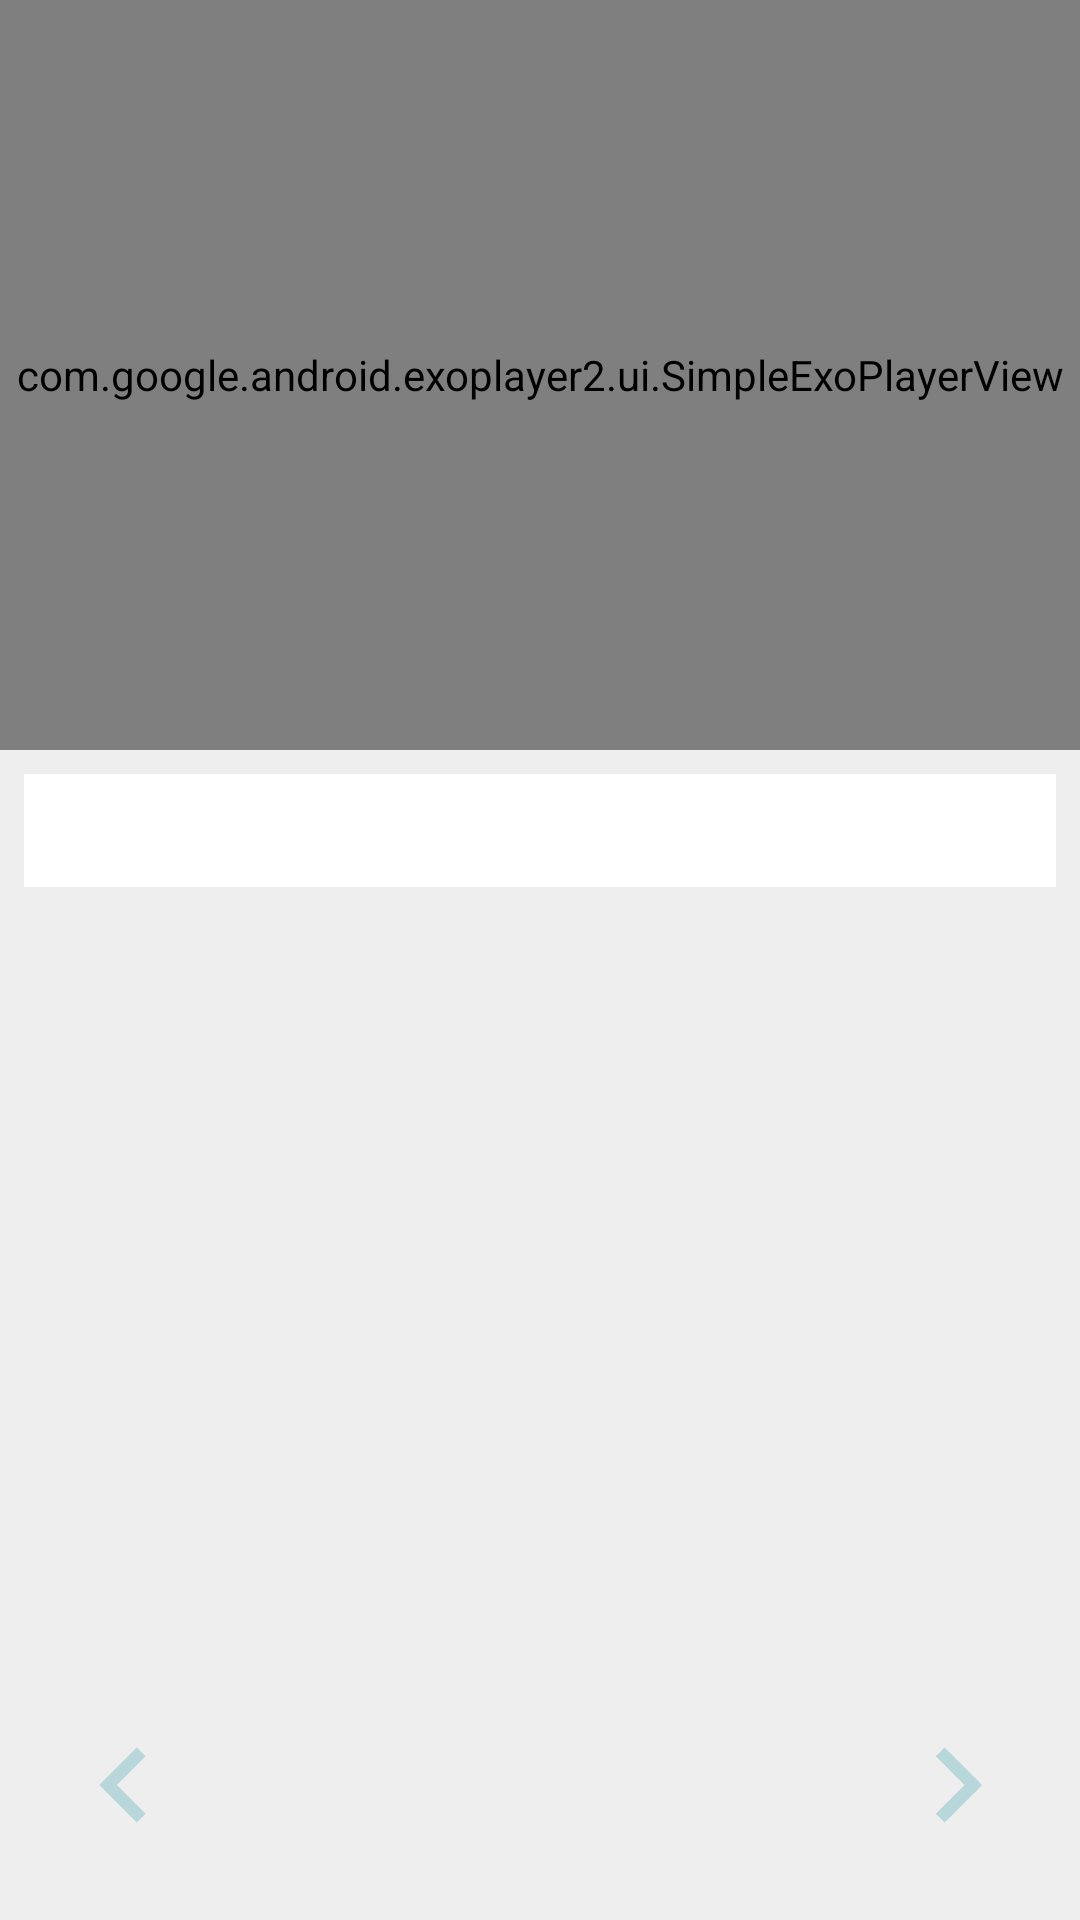

Locate icon controls on the screen. Image size 1080 x 1920, boxes as (x1, y1, x2, y2).
back: (100, 1748, 145, 1822)
next: (936, 1748, 982, 1822)
